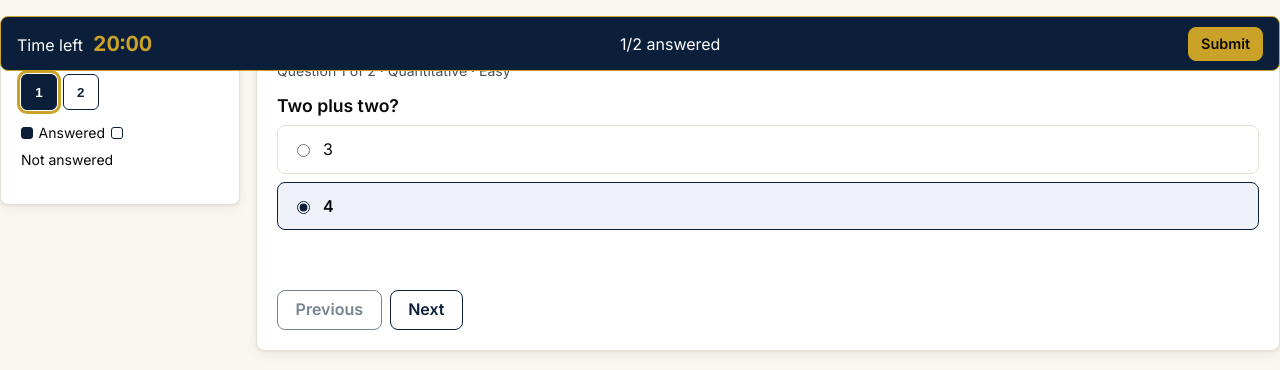
Test: student pages › restores saved answers and auto-saves a new pick (SAFE-1, TST-4)
The width and height of the screenshot is (1280, 370).
expect the heading "Two plus two?" is shown: met, box top-left (277, 95), bottom-right (399, 116)
expect the radio button labelled "4" is checked: met, box top-left (297, 201), bottom-right (310, 214)
What coordinates should you click on to do the following:
click the button named "Question 2, not answered"
I would click on:
 (81, 92)
Its box is top-left (63, 74), bottom-right (99, 110).
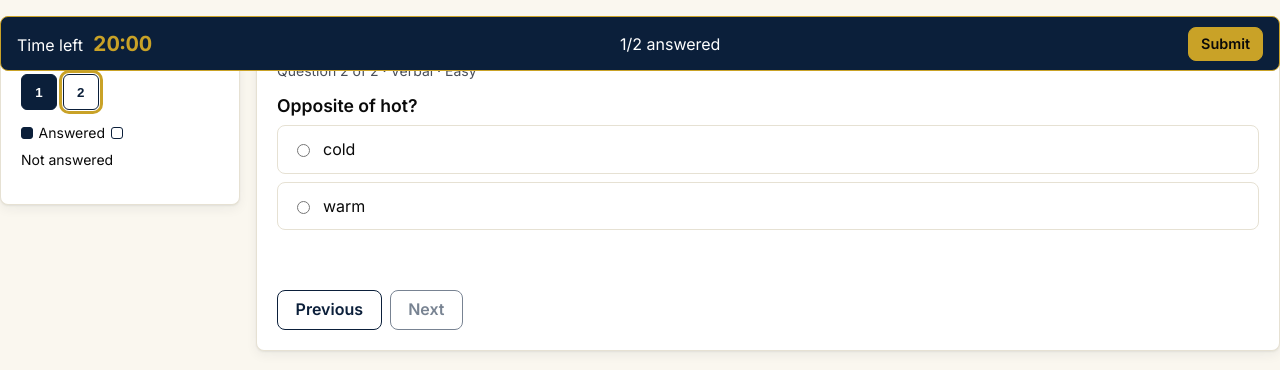
What coordinates should you click on to do the following:
click the radio button labelled "cold"
I would click on:
 (304, 151)
Its box is top-left (297, 144), bottom-right (310, 157).
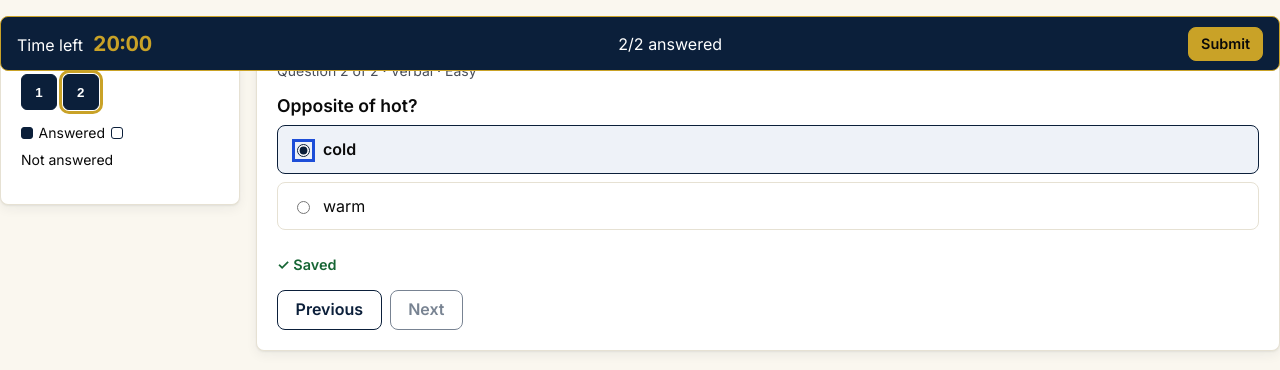
expect the text "✓ Saved" is shown: met, box top-left (277, 256), bottom-right (336, 273)
expect the text "2/2 answered" is shown: met, box top-left (618, 32), bottom-right (722, 56)
